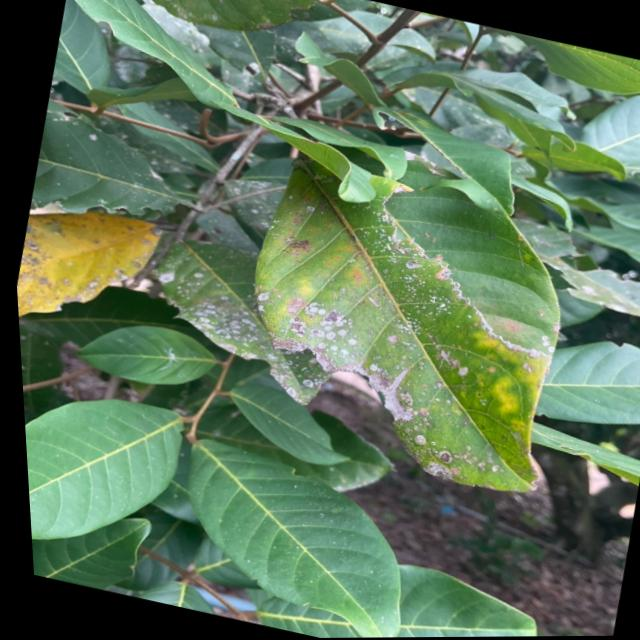Algal Leaf Spot: (240, 163, 550, 465), (31, 120, 325, 398)
